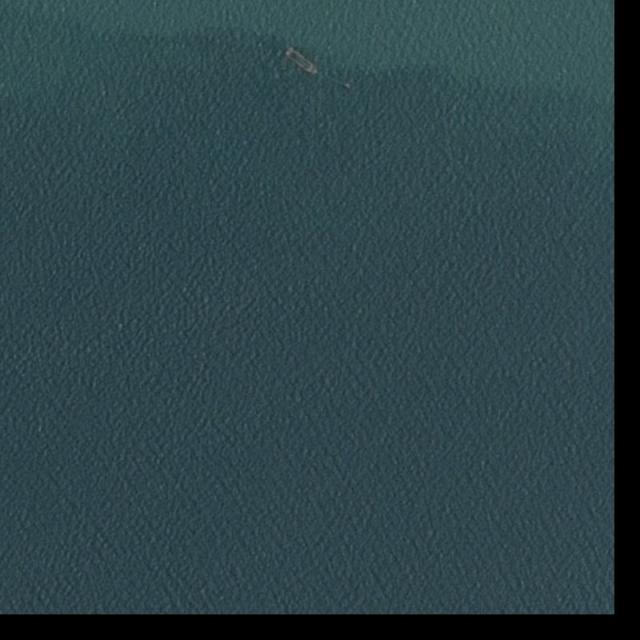ship: (281, 44, 321, 79), (343, 82, 351, 89)
